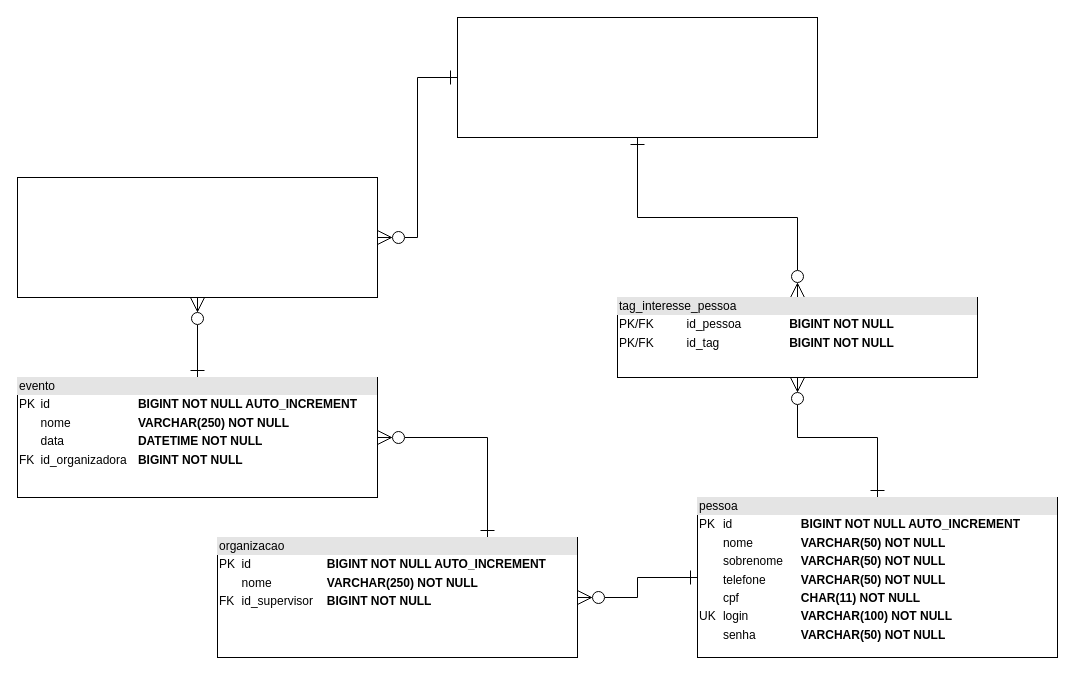
This 1075x675 diagram has some shape labels left out. Here are the shapes that lost their labels. From the top down, the box of each, then its label:
(456, 16, 818, 138): tags PK id BIGINT NOT NULL AUTO_INCREMENT nome VARCHAR(45) NOT NULL
(16, 176, 378, 298): tags_evento PK/FK id_evento BIGINT NOT NULL PK/FK id_tag BIGINT NOT NULL
